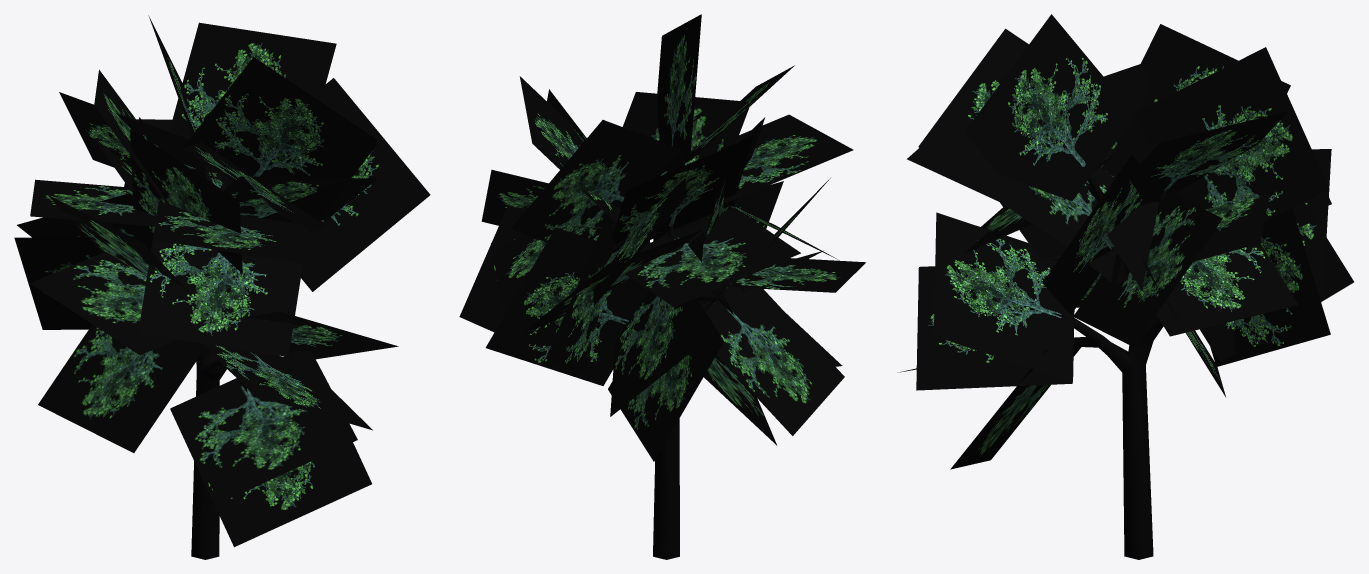
Rendered from tree65.glb.
3 views of the same model, side by side, from view 1: azimuth 30°, elevation 25°; view 2: azimuth 150°, elevation 25°; view 3: azimuth 270°, elevation 25° (orthographic). The views are drawn at different scales.
Size of the model in its own units: 5.02 by 6.84 by 5.25.
Materials: 2 (1 with a texture image).
